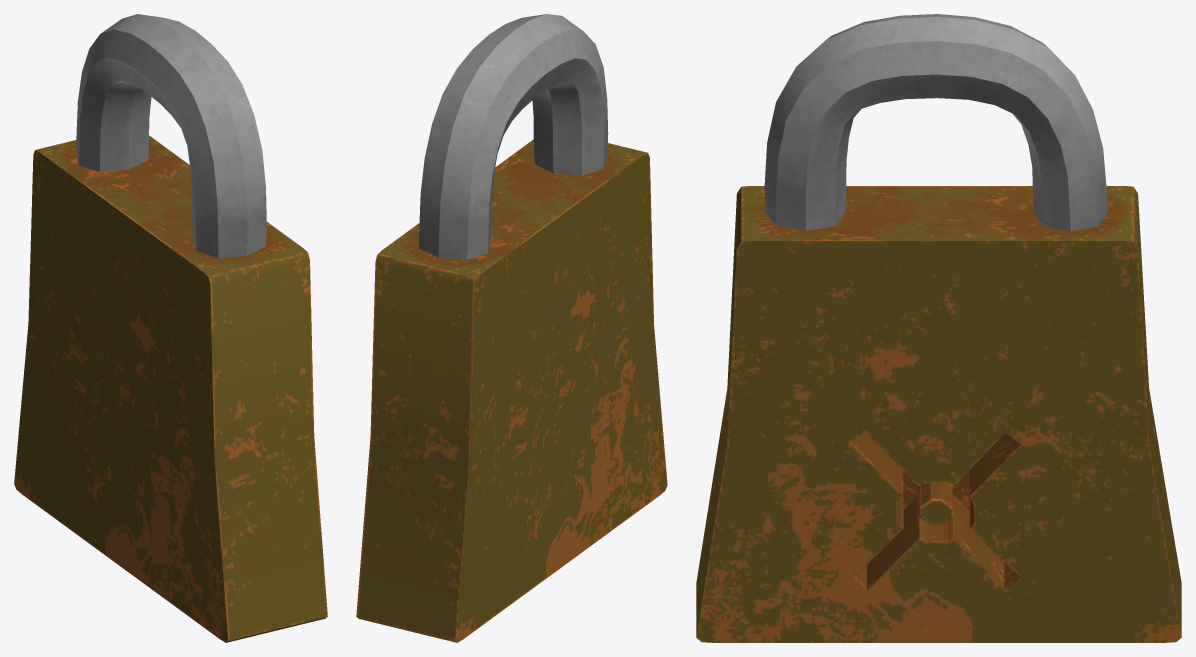
The model's file is Cadeado_3.fbx.
3 renders of one model, left to right at view 1: azimuth 30°, elevation 25°; view 2: azimuth 150°, elevation 25°; view 3: azimuth 270°, elevation 25°, orthographic. The views are drawn at different scales.
Parts seen in each view (by area): view 1: Cadeado_3, Cadeado_Ferro_3; view 2: Cadeado_3, Cadeado_Ferro_3; view 3: Cadeado_3, Cadeado_Ferro_3.
Boxes of the visible parts, x1=… form: Cadeado_3: x1=14, y1=135, x2=327, y2=642; Cadeado_Ferro_3: x1=76, y1=14, x2=266, y2=258; Cadeado_3: x1=356, y1=139, x2=667, y2=642; Cadeado_Ferro_3: x1=419, y1=14, x2=608, y2=260; Cadeado_3: x1=696, y1=186, x2=1181, y2=642; Cadeado_Ferro_3: x1=764, y1=14, x2=1107, y2=231.
Bounding box in the file's own units: 1.86 × 9.45 × 6.94.
